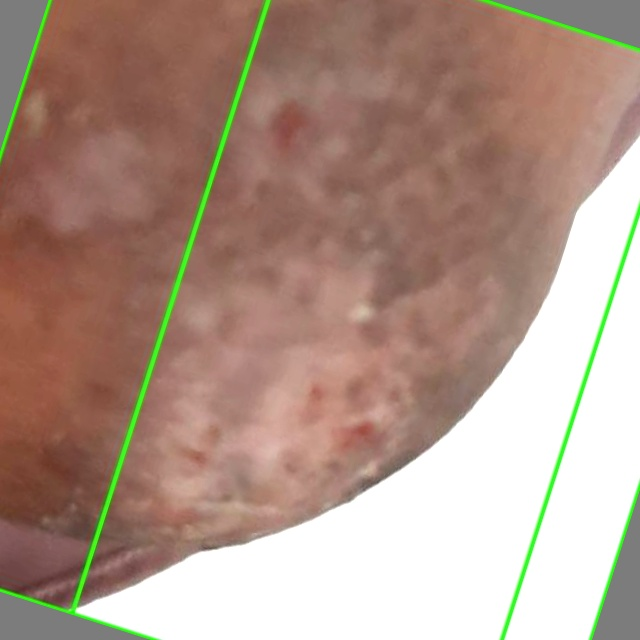Eczema: (0, 0, 639, 639), (72, 0, 639, 639)
